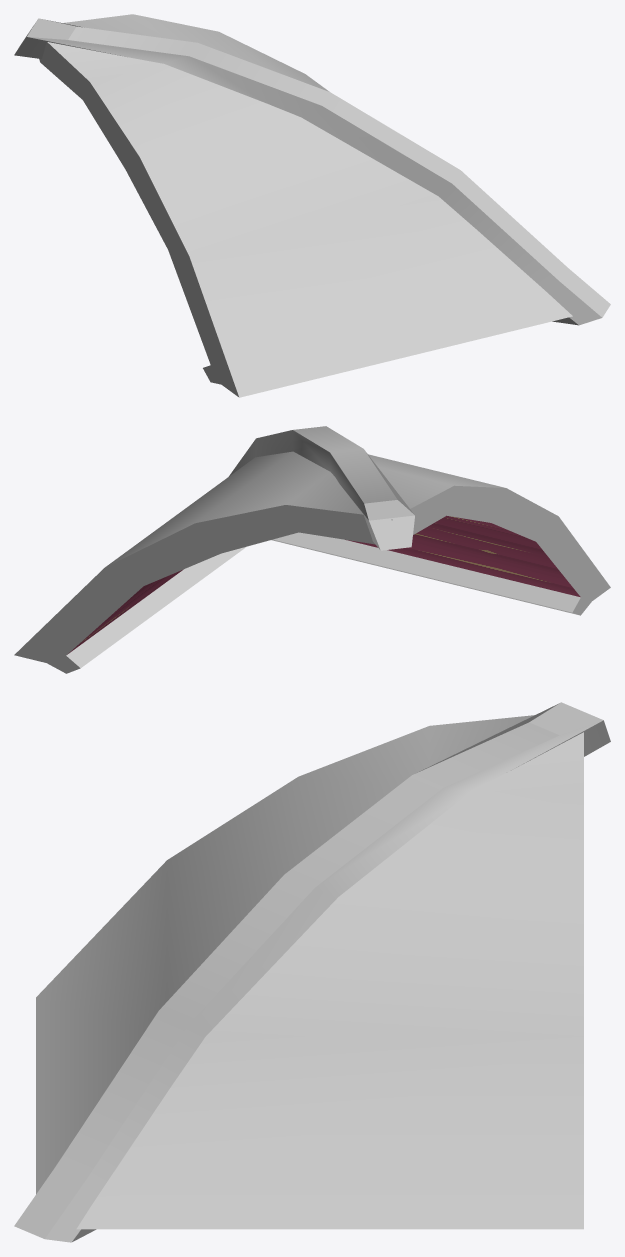
File: SM_Bld_Roof_M_Convex_Corner_Out_01.fbx
3 renders of one model, top to bottom at view 1: azimuth 30°, elevation 25°; view 2: azimuth 150°, elevation 25°; view 3: azimuth 270°, elevation 25°, orthographic. The views are drawn at different scales.
Parts seen in each view (by area): view 1: SM_Bld_Roof_M_Convex_Corner_Out_01; view 2: SM_Bld_Roof_M_Convex_Corner_Out_01; view 3: SM_Bld_Roof_M_Convex_Corner_Out_01.
Part boxes in pixels (<box>): SM_Bld_Roof_M_Convex_Corner_Out_01: <box>14,14,610,397</box>; SM_Bld_Roof_M_Convex_Corner_Out_01: <box>14,426,610,673</box>; SM_Bld_Roof_M_Convex_Corner_Out_01: <box>14,702,610,1242</box>.
Bounding box in the file's own units: 285 × 158 × 285.
